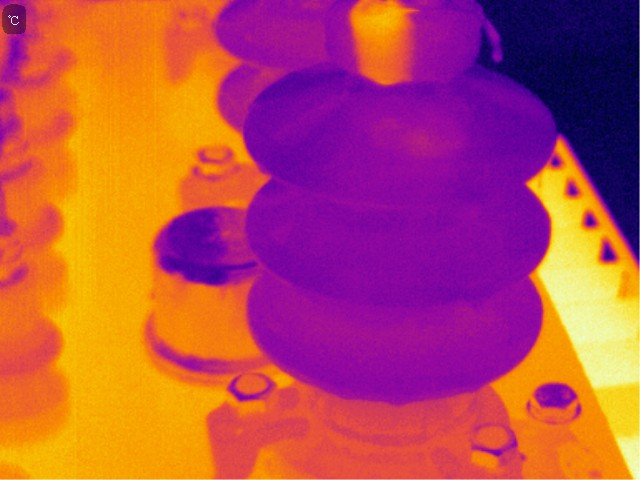Oil: (333, 1, 427, 87), (373, 117, 473, 158)
